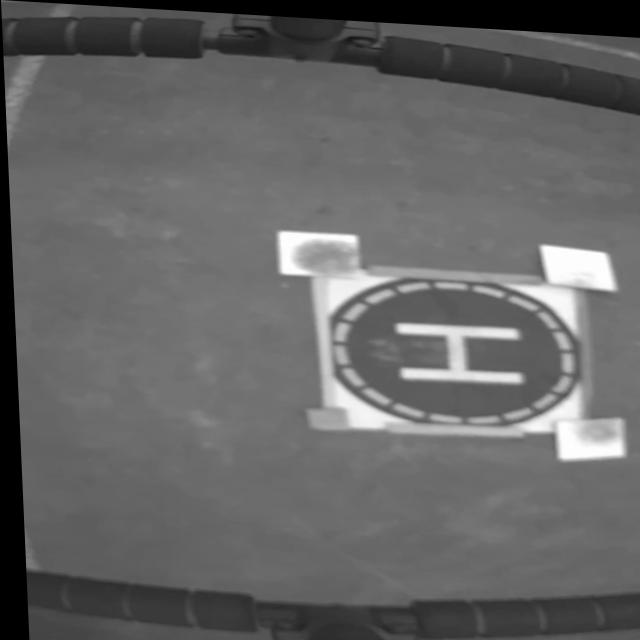Helipad: (392, 318, 522, 380)
